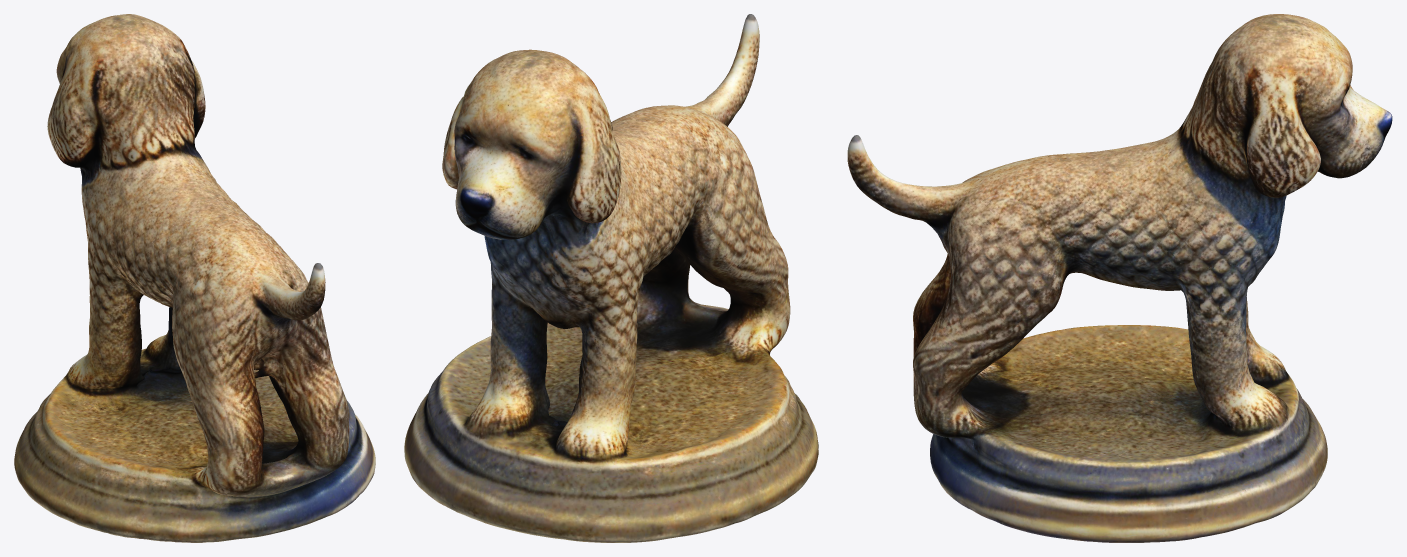
The model's file is Pawn-Labradoodle.glb.
The picture shows the model from 3 angles, left to right: view 1: azimuth 30°, elevation 25°; view 2: azimuth 150°, elevation 25°; view 3: azimuth 270°, elevation 25°; orthographic projection. The views are drawn at different scales.
Visible parts, largest first — view 1: high_poly; view 2: high_poly; view 3: high_poly.
Boxes of the visible parts, left/top/right/bottom form: high_poly: left=14, top=14, right=375, bottom=542; high_poly: left=404, top=14, right=818, bottom=542; high_poly: left=847, top=14, right=1392, bottom=542.
Size of the model in its own units: 0.7345 by 0.8937 by 1.
1 material, 1 textured.
